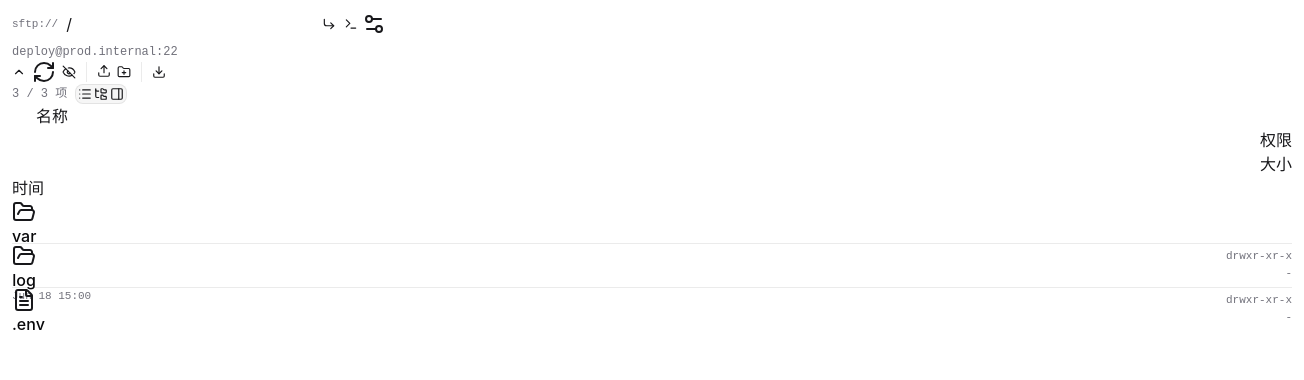
Test case: SftpToolContent clipboard and selection › selects a visible range with Shift without opening directories
The width and height of the screenshot is (1304, 380).
Expected: the text "var" is shown, [12, 226, 36, 246]
Click the button with aria-label "文件 .env" at (28, 312), box [12, 288, 45, 336]
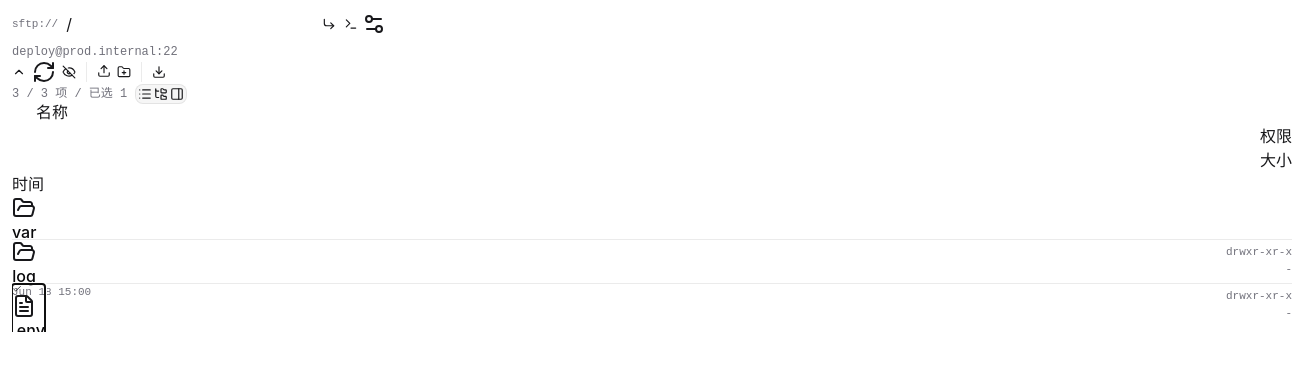
Click the button with aria-label "打开目录 var" at (24, 220), box [12, 196, 36, 244]
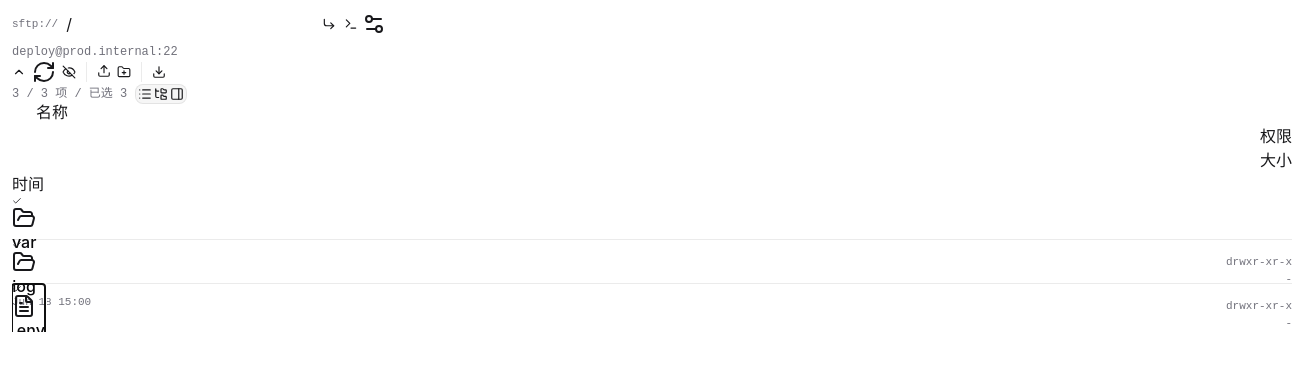
Now the text "3 / 3 项 / 已选 3" is shown, box [12, 86, 127, 102]
Press c in the button with aria-label "打开目录 var", box [12, 196, 36, 254]
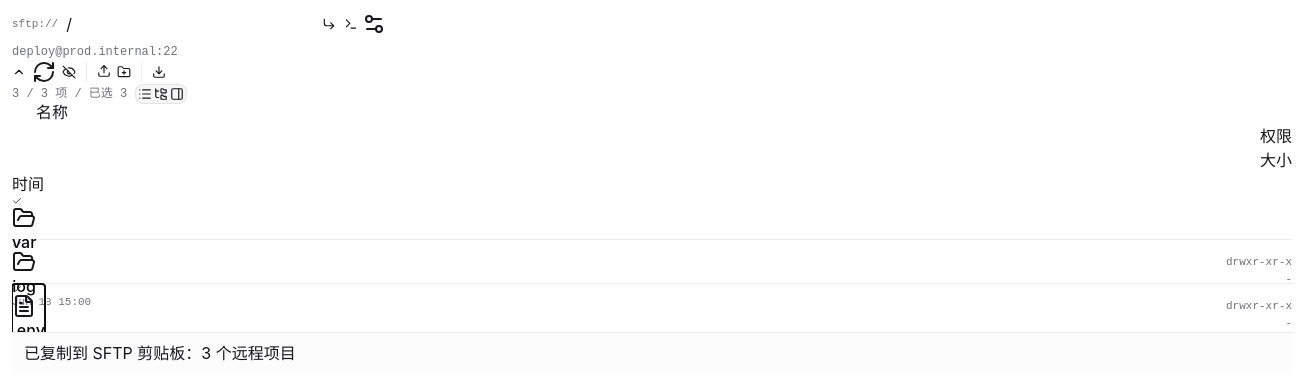
Now the text "已复制到 SFTP 剪贴板：3 个远程项目" is shown, box [24, 343, 296, 363]
